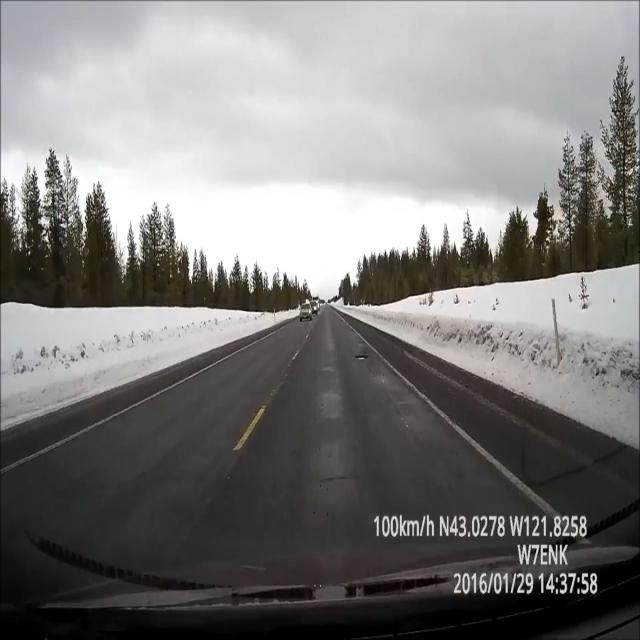Pothole: (353, 344, 369, 367)
